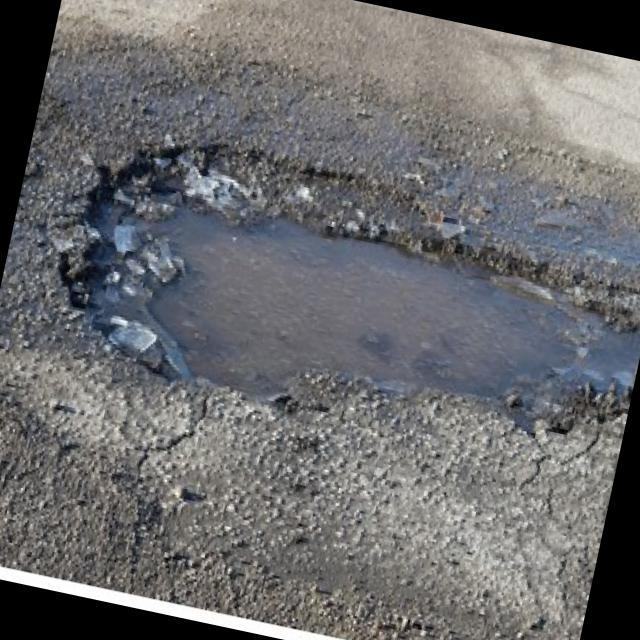Pothole: (38, 105, 640, 483)
